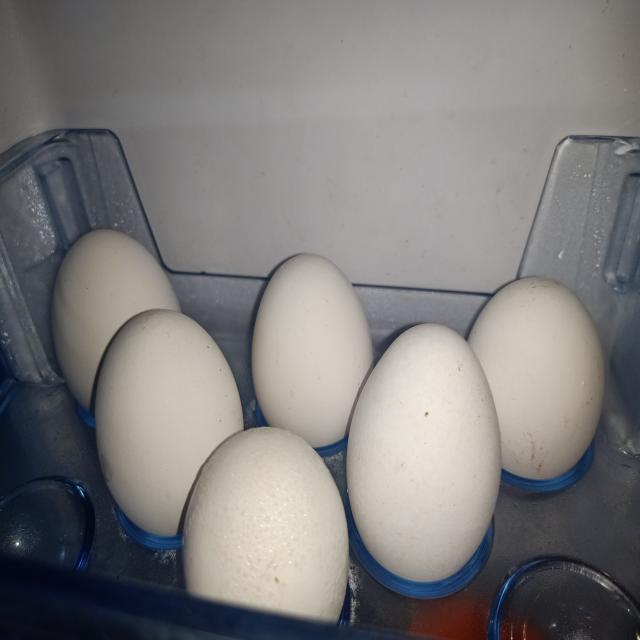Egg: (347, 324, 502, 582), (94, 309, 243, 536), (183, 428, 349, 623), (469, 277, 606, 480), (252, 253, 373, 448), (51, 229, 180, 410)
